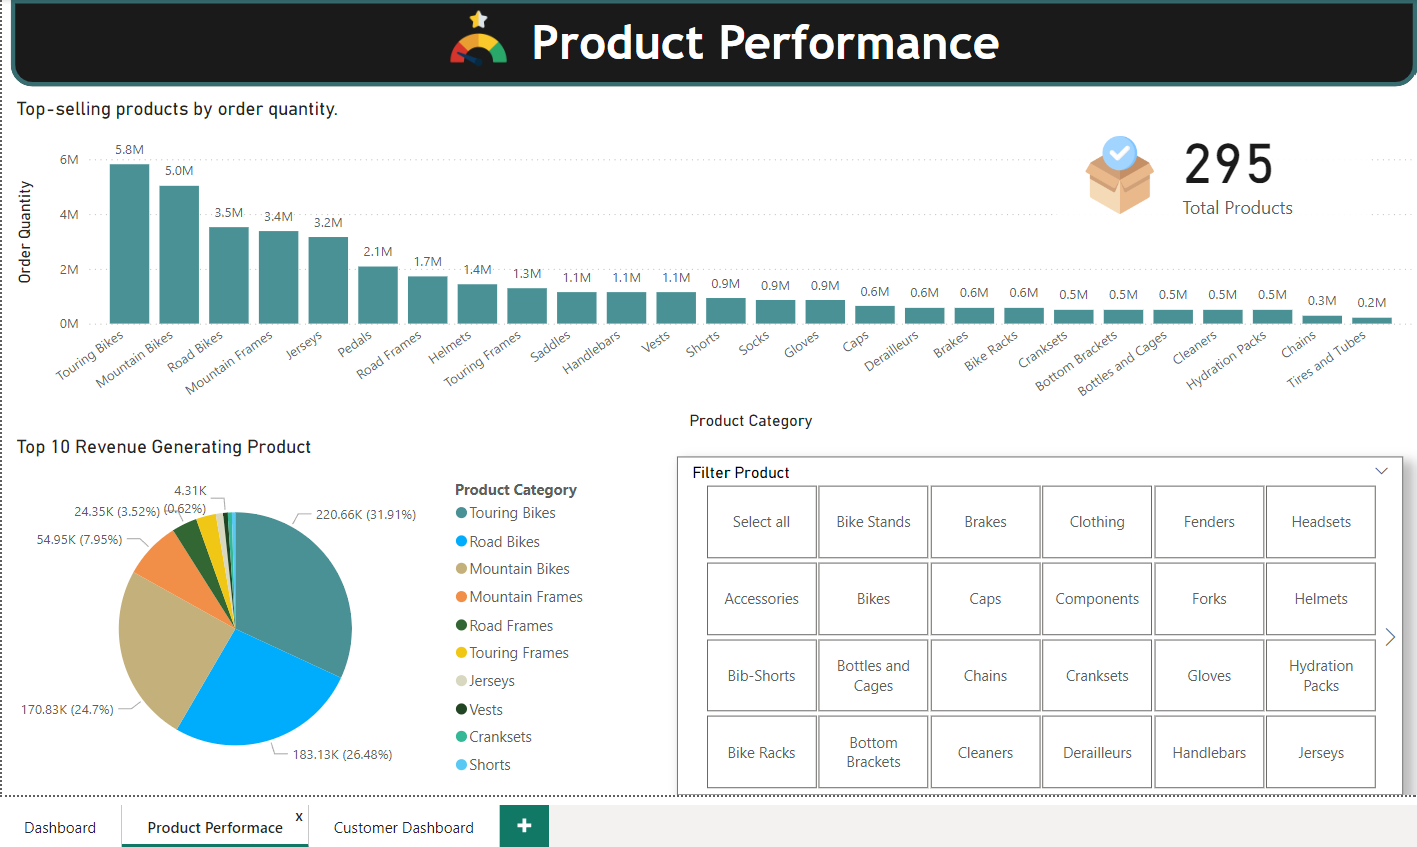

This screenshot's page, from the dashboard's own definition file:
{"tool":"powerbi","page":{"name":"Product Performace","canvas":[1280,720],"ordinal":1},"visuals":[{"type":"clusteredColumnChart","title":"Top-selling products by order quantity.","fields":{"Category":["ProductCategory.name"],"Y":["Sum(SalesOrderDetail.sales_order_id)"]},"box":[7.7,89.6,1272.6,304.7],"z":0},{"type":"shape","box":[7.9,0,1272.1,79.1],"z":1000},{"type":"textbox","box":[193.3,9,994.8,61.5],"z":2000},{"type":"image","box":[400.7,0,61.5,70.4],"z":3000},{"type":"slicer","fields":{"Values":["ProductCategory.name"]},"box":[610.9,413.9,657.1,306.2],"z":4000},{"type":"pieChart","title":"Top 10 Revenue Generating Product","fields":{"Category":["ProductCategory.name"],"Y":["Sum(SalesOrderDetail.line_total)"]},"box":[7.7,394.3,532.6,325.2],"z":5000},{"type":"cardVisual","title":"Sales","fields":{"Data":["CountNonNull(Product.product_id)"]},"box":[953.8,99.9,284.2,115.2],"z":6000}]}

Visuals, with their boxes on the page's 1280x720 design canvas (x1, y1, x2, y2). These are canvas units, not pixel positions in the 1417x847 screenshot, which may show the page scaled, cropped or inside an application window:
"Top-selling products by order quantity." clusteredColumnChart: region(8, 90, 1280, 394)
shape: region(8, 0, 1280, 79)
textbox: region(193, 9, 1188, 70)
image: region(401, 0, 462, 70)
slicer - ProductCategory.name: region(611, 414, 1268, 720)
"Top 10 Revenue Generating Product" pieChart: region(8, 394, 540, 720)
"Sales" cardVisual: region(954, 100, 1238, 215)
